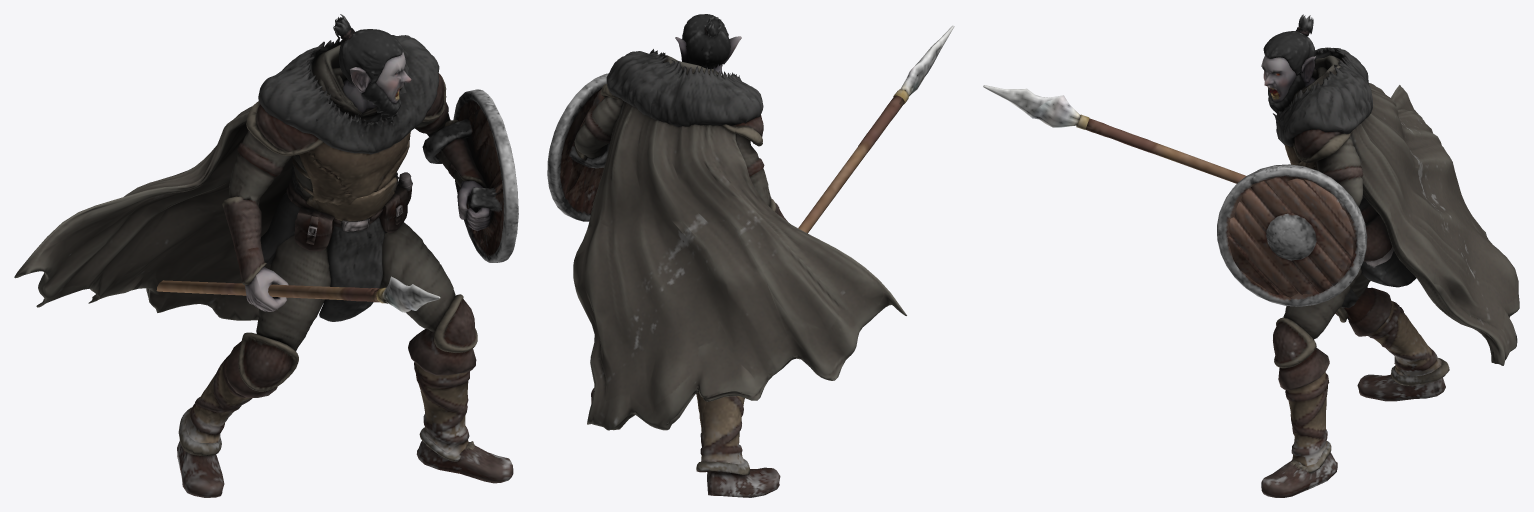
The model's file is MZ4250 - VerbeegMarauder_spear.glb.
The picture shows the model from 3 angles, left to right: view 1: azimuth 30°, elevation 25°; view 2: azimuth 150°, elevation 25°; view 3: azimuth 270°, elevation 25°; orthographic projection. The views are drawn at different scales.
Visible parts, largest first — view 1: Cube.001; view 2: Cube.001; view 3: Cube.001.
Boxes of the visible parts, x1,y1,x2,y2 form: Cube.001: (14, 14, 518, 497); Cube.001: (547, 14, 954, 497); Cube.001: (983, 14, 1519, 497).
Bounding box in the file's own units: 131 × 141 × 163.
2 materials, 2 textured.
